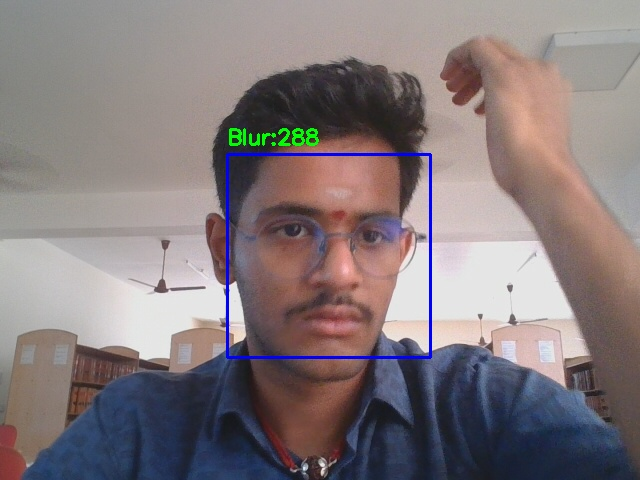real: (227, 154, 430, 357)
